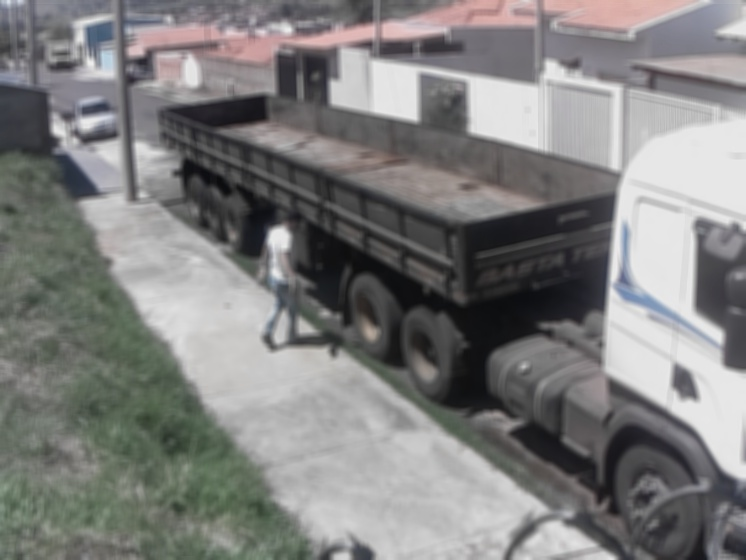person: (257, 209, 312, 354)
